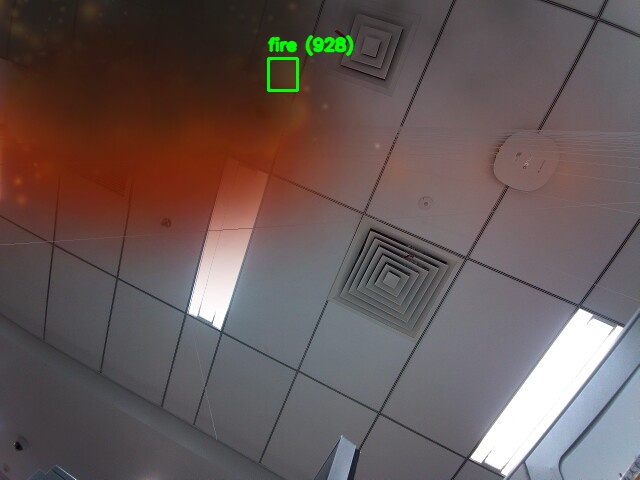fire: (268, 58, 297, 90)
